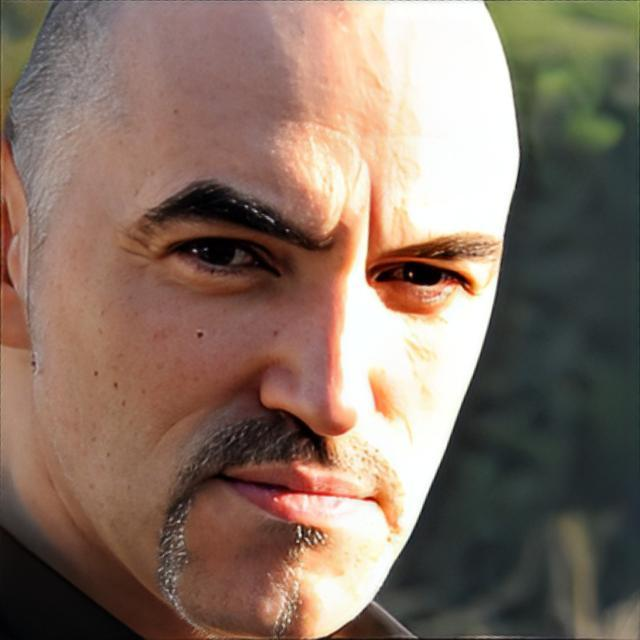anger: (76, 37, 508, 639)
